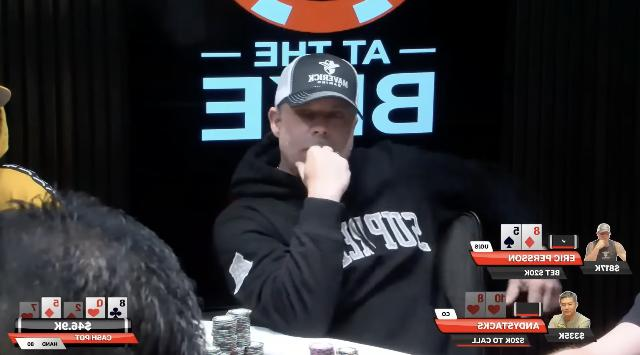10H: (486, 292, 506, 317)
2D: (64, 303, 82, 319)
5D: (42, 298, 60, 319)
5S: (501, 225, 522, 251)
7H: (20, 303, 38, 319)
8C: (108, 298, 126, 318)
8D: (522, 225, 542, 249)
8H: (466, 292, 486, 318)
QH: (86, 298, 104, 318)
